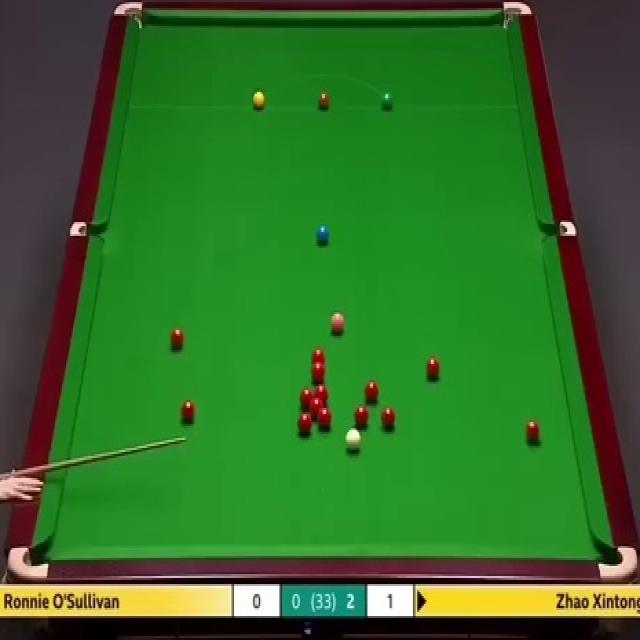blue-ball: (316, 222, 330, 247)
brown-ball: (317, 90, 330, 109)
green-ball: (381, 90, 394, 109)
pink-ball: (329, 309, 346, 337)
red-ball: (426, 355, 442, 386), (180, 398, 196, 428), (168, 326, 185, 354), (351, 406, 371, 426), (524, 419, 540, 443), (364, 381, 379, 406), (297, 412, 312, 436), (314, 383, 329, 406), (308, 356, 323, 379), (300, 386, 314, 410), (318, 406, 332, 429), (310, 398, 324, 418), (382, 408, 395, 429), (310, 341, 324, 358)
white-ball: (346, 428, 359, 452)
yellow-ball: (252, 90, 265, 109)
